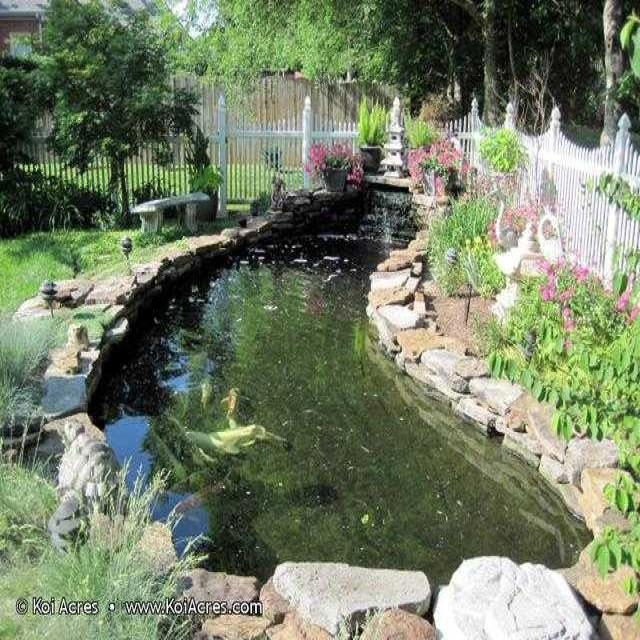Ponds: (32, 171, 640, 640)
